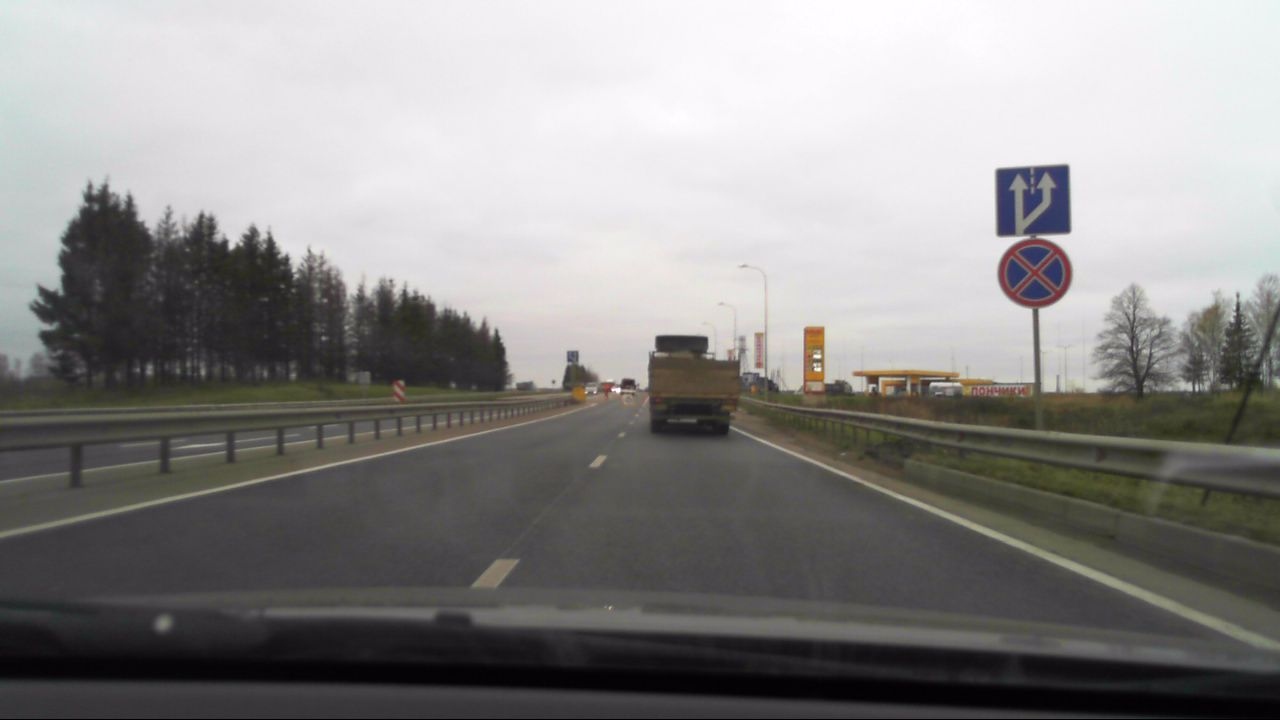No Parking: (996, 235, 1074, 310)
